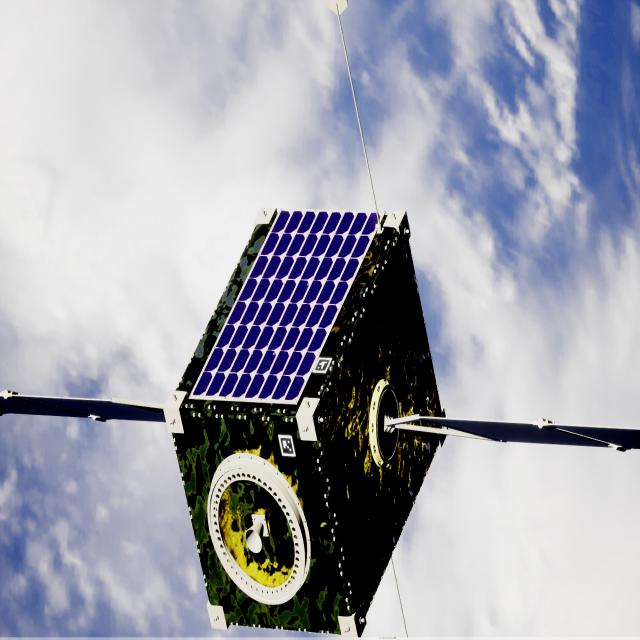medium_debris: (0, 211, 640, 635)
